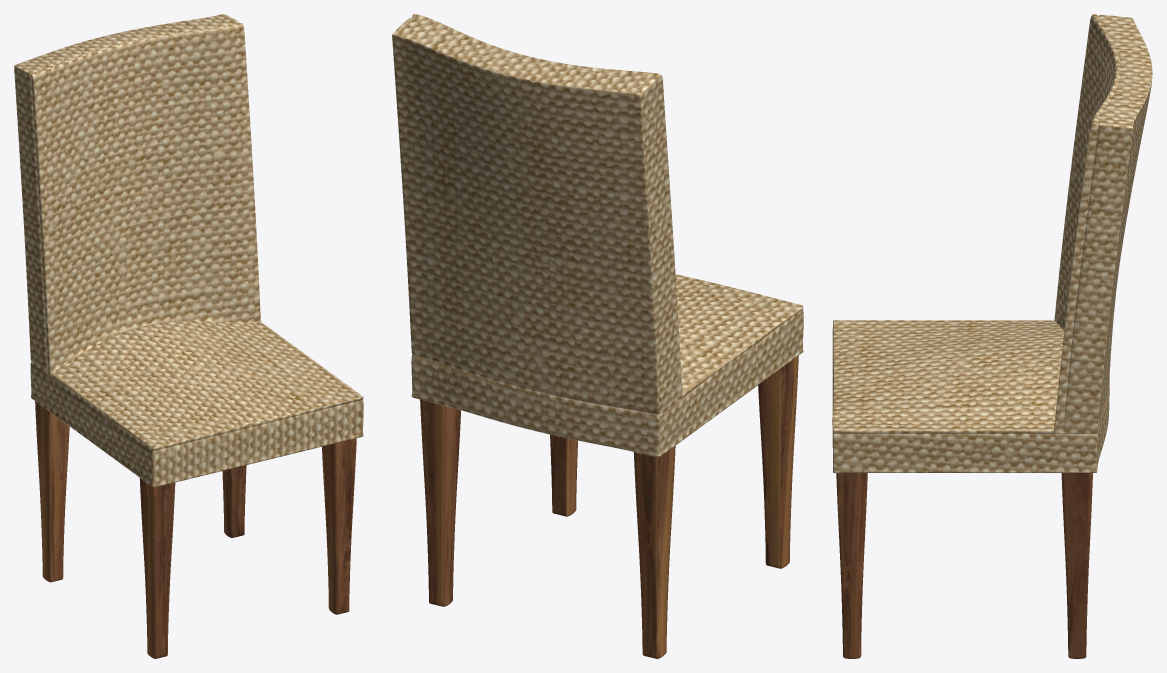
Rendered from Chair_textile.obj.
3 renders of one model, left to right at view 1: azimuth 30°, elevation 25°; view 2: azimuth 150°, elevation 25°; view 3: azimuth 270°, elevation 25°, orthographic. The views are drawn at different scales.
Visible parts, largest first — view 1: Untitled_Cube.001, Cube; view 2: Untitled_Cube.001, Cube; view 3: Untitled_Cube.001, Cube.
Part boxes in pixels (x1,y1,x2,y2): Untitled_Cube.001: [14, 14, 363, 487]; Cube: [35, 401, 356, 658]; Untitled_Cube.001: [392, 14, 803, 457]; Cube: [420, 355, 798, 658]; Untitled_Cube.001: [832, 14, 1152, 472]; Cube: [836, 473, 1092, 658].
Bounding box in the file's own units: 2.26 × 5.12 × 2.75.
